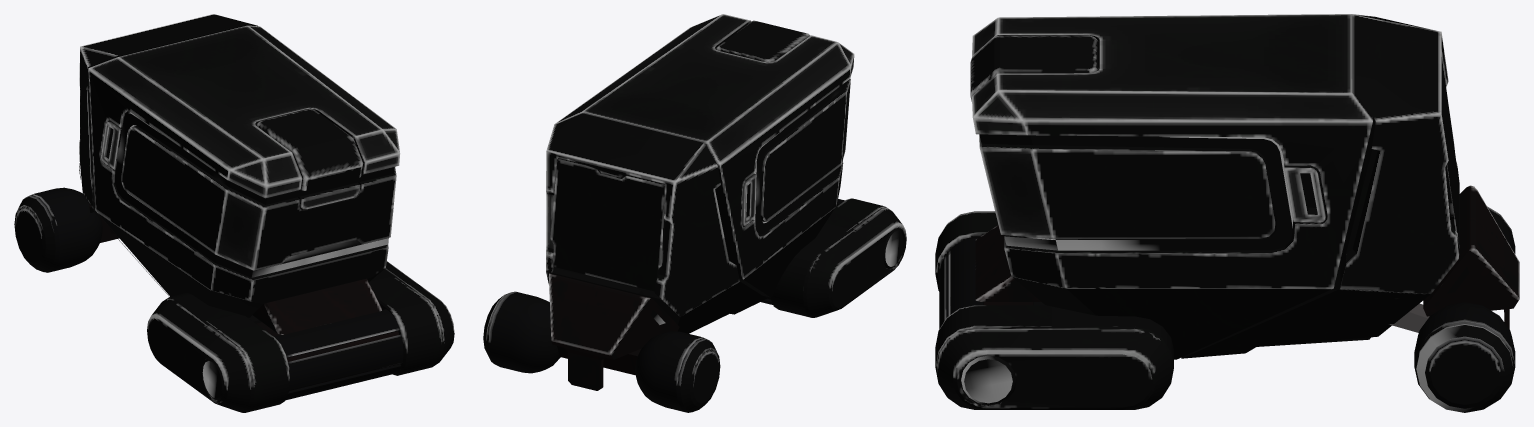
The model's file is propSweepTruck.glb.
3 renders of one model, left to right at view 1: azimuth 30°, elevation 25°; view 2: azimuth 150°, elevation 25°; view 3: azimuth 270°, elevation 25°, orthographic. The views are drawn at different scales.
Visible parts, largest first — view 1: propSweepTruck; view 2: propSweepTruck; view 3: propSweepTruck.
Part boxes in pixels (x1,y1,x2,y2): propSweepTruck: (14, 14, 454, 412); propSweepTruck: (483, 14, 906, 412); propSweepTruck: (935, 14, 1519, 412).
Size of the model in its own units: 2.98 by 2.96 by 5.22.
1 material, 1 textured.
